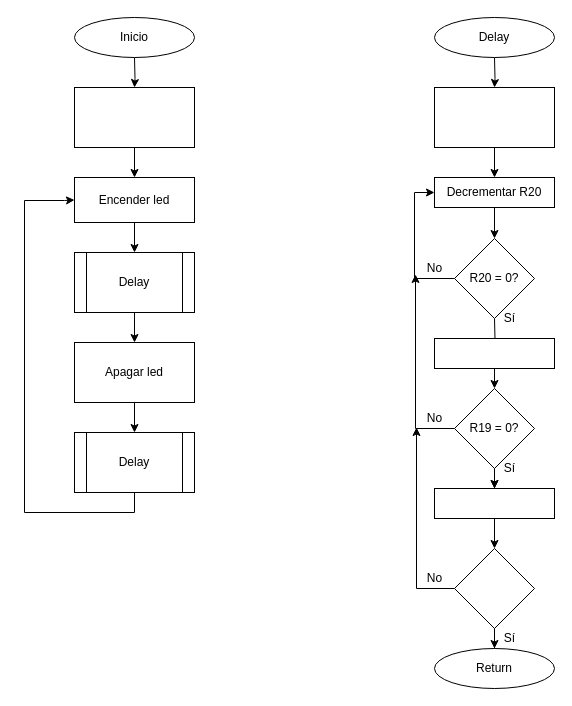
The diagram is 572 pixels wide and 706 high, and some of its shapes have lost their labels. Each missing label, with the centre of its shape:
"Configurar pin_led como salida" belongs at (134,117).
"Decrementar R18" belongs at (494,503).
"Decrementar R19" belongs at (494,353).
"R18 <-- 41 R19 <-- 150 R20 <-- 128" belongs at (494,117).
"R18 = 0?" belongs at (494,588).
